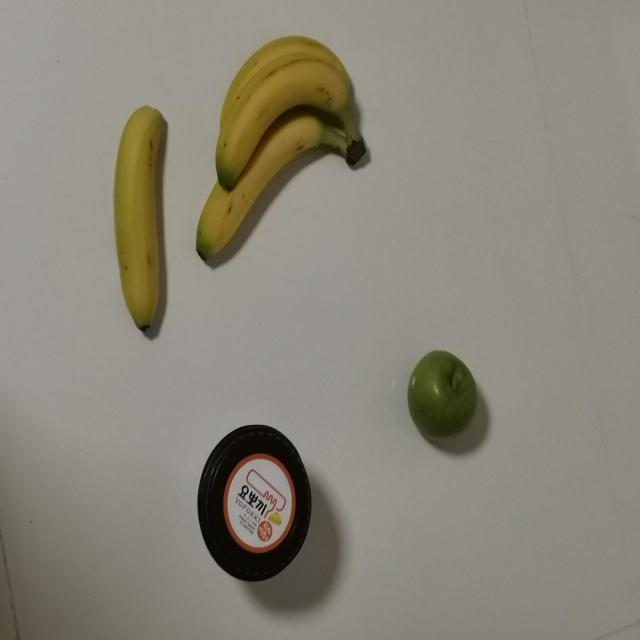Apple: (406, 342, 479, 442)
Banana: (197, 31, 368, 262), (95, 100, 179, 353)
